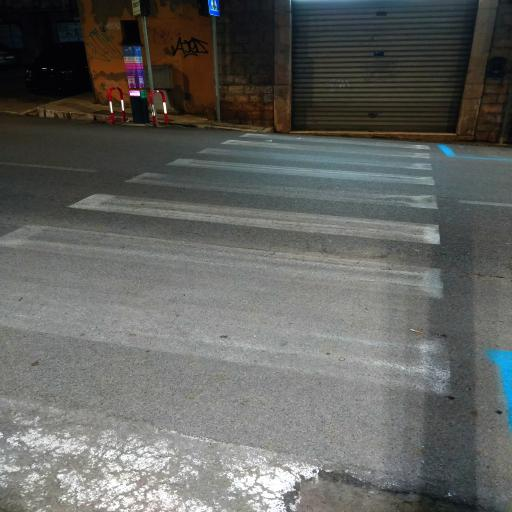crosswalk: (60, 166, 444, 256)
